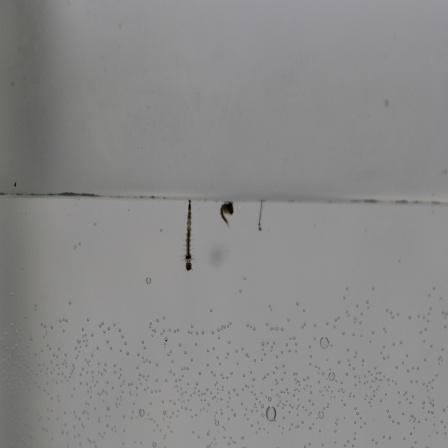Jentik-Nyamuk: (181, 198, 200, 273), (217, 198, 238, 226), (253, 197, 267, 234)
